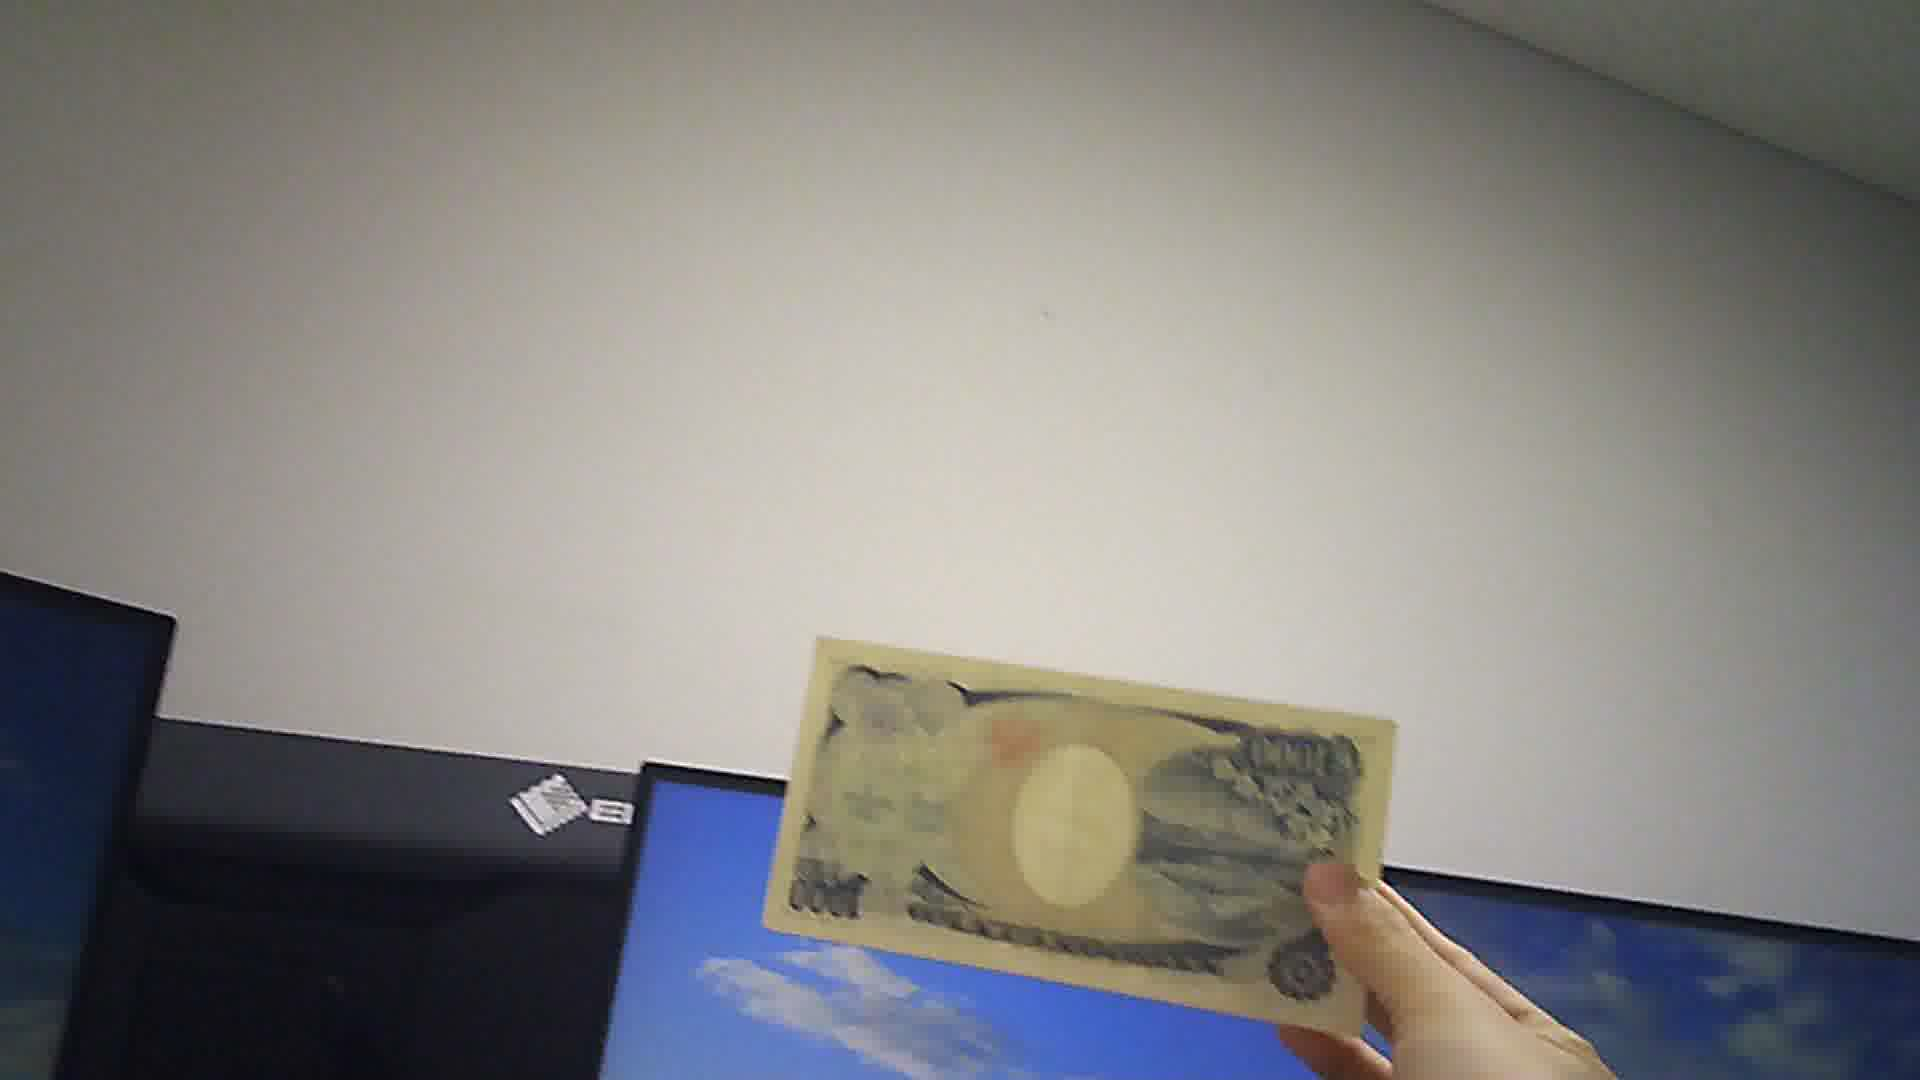1,000 Yen: (760, 622, 1387, 1034)
